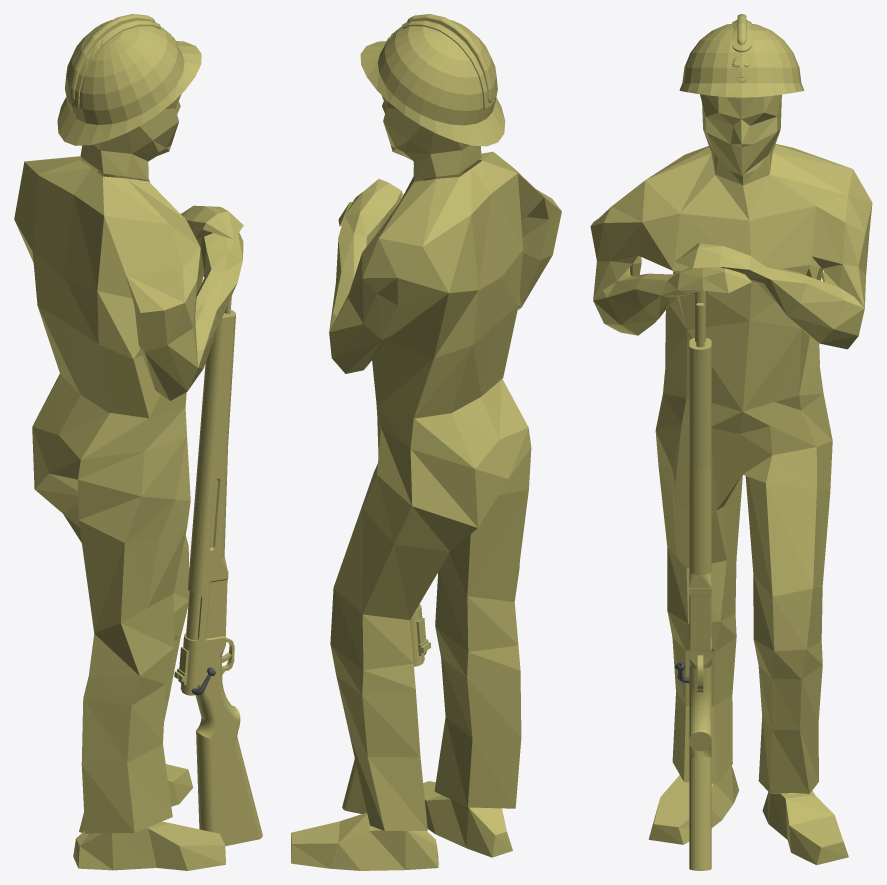
3 renders of one model, left to right at view 1: azimuth 30°, elevation 25°; view 2: azimuth 150°, elevation 25°; view 3: azimuth 270°, elevation 25°, orthographic. The views are drawn at different scales.
Visible parts, largest first — view 1: Mesh38 Composant_7_1 Composant_13_1 Model, Mesh33 Composant_4_1 Composant_13_1 Model, Mesh20 Composant_12_1 Composant_13_1 Model, Mesh41 Composant_8_1 Composant_13_1 Model, Mesh1 Composant_2_1 Composant_13_1 Model, Mesh35 Composant_6_1 Composant_13_1 Model, Mesh31 Composant_5_1 Composant_13_1 Model, Mesh9 Composant_10_1 Composant_13_1 Model, Mesh44 Composant_3_1 Composant_13_1 Model, Mesh7 Composant_9_1 Composant_13_1 Model, Mesh4 Composant_11_1 Composant_13_1 Model; view 2: Mesh31 Composant_5_1 Composant_13_1 Model, Mesh38 Composant_7_1 Composant_13_1 Model, Mesh41 Composant_8_1 Composant_13_1 Model, Mesh7 Composant_9_1 Composant_13_1 Model, Mesh1 Composant_2_1 Composant_13_1 Model, Mesh33 Composant_4_1 Composant_13_1 Model, Mesh4 Composant_11_1 Composant_13_1 Model, Mesh44 Composant_3_1 Composant_13_1 Model, Mesh9 Composant_10_1 Composant_13_1 Model, Mesh35 Composant_6_1 Composant_13_1 Model, Mesh20 Composant_12_1 Composant_13_1 Model; view 3: Mesh31 Composant_5_1 Composant_13_1 Model, Mesh38 Composant_7_1 Composant_13_1 Model, Mesh33 Composant_4_1 Composant_13_1 Model, Mesh7 Composant_9_1 Composant_13_1 Model, Mesh20 Composant_12_1 Composant_13_1 Model, Mesh35 Composant_6_1 Composant_13_1 Model, Mesh41 Composant_8_1 Composant_13_1 Model, Mesh1 Composant_2_1 Composant_13_1 Model, Mesh44 Composant_3_1 Composant_13_1 Model, Mesh4 Composant_11_1 Composant_13_1 Model, Mesh9 Composant_10_1 Composant_13_1 Model.
Part boxes in pixels (left/top/right/bottom): Mesh38 Composant_7_1 Composant_13_1 Model: left=32, top=374, right=190, bottom=633; Mesh33 Composant_4_1 Composant_13_1 Model: left=64, top=168, right=204, bottom=418; Mesh20 Composant_12_1 Composant_13_1 Model: left=174, top=296, right=262, bottom=846; Mesh41 Composant_8_1 Composant_13_1 Model: left=81, top=593, right=174, bottom=833; Mesh1 Composant_2_1 Composant_13_1 Model: left=57, top=14, right=201, bottom=145; Mesh35 Composant_6_1 Composant_13_1 Model: left=126, top=232, right=243, bottom=400; Mesh31 Composant_5_1 Composant_13_1 Model: left=14, top=156, right=243, bottom=394; Mesh9 Composant_10_1 Composant_13_1 Model: left=73, top=821, right=225, bottom=870; Mesh44 Composant_3_1 Composant_13_1 Model: left=80, top=94, right=181, bottom=180; Mesh7 Composant_9_1 Composant_13_1 Model: left=164, top=546, right=189, bottom=721; Mesh4 Composant_11_1 Composant_13_1 Model: left=79, top=764, right=193, bottom=832; Mesh31 Composant_5_1 Composant_13_1 Model: left=329, top=169, right=501, bottom=418; Mesh38 Composant_7_1 Composant_13_1 Model: left=333, top=379, right=531, bottom=619; Mesh41 Composant_8_1 Composant_13_1 Model: left=434, top=570, right=521, bottom=808; Mesh7 Composant_9_1 Composant_13_1 Model: left=330, top=588, right=427, bottom=830; Mesh1 Composant_2_1 Composant_13_1 Model: left=360, top=14, right=505, bottom=146; Mesh33 Composant_4_1 Composant_13_1 Model: left=414, top=151, right=544, bottom=396; Mesh4 Composant_11_1 Composant_13_1 Model: left=291, top=812, right=438, bottom=870; Mesh44 Composant_3_1 Composant_13_1 Model: left=381, top=95, right=481, bottom=180; Mesh9 Composant_10_1 Composant_13_1 Model: left=423, top=781, right=512, bottom=857; Mesh35 Composant_6_1 Composant_13_1 Model: left=338, top=172, right=561, bottom=309; Mesh20 Composant_12_1 Composant_13_1 Model: left=342, top=404, right=430, bottom=813; Mesh31 Composant_5_1 Composant_13_1 Model: left=675, top=144, right=872, bottom=411; Mesh38 Composant_7_1 Composant_13_1 Model: left=655, top=366, right=832, bottom=596; Mesh33 Composant_4_1 Composant_13_1 Model: left=611, top=146, right=751, bottom=411; Mesh7 Composant_9_1 Composant_13_1 Model: left=753, top=575, right=822, bottom=793; Mesh20 Composant_12_1 Composant_13_1 Model: left=689, top=290, right=711, bottom=870; Mesh35 Composant_6_1 Composant_13_1 Model: left=590, top=206, right=751, bottom=335; Mesh41 Composant_8_1 Composant_13_1 Model: left=667, top=547, right=736, bottom=783; Mesh1 Composant_2_1 Composant_13_1 Model: left=679, top=14, right=804, bottom=97; Mesh44 Composant_3_1 Composant_13_1 Model: left=700, top=94, right=781, bottom=185; Mesh4 Composant_11_1 Composant_13_1 Model: left=762, top=790, right=848, bottom=865; Mesh9 Composant_10_1 Composant_13_1 Model: left=648, top=765, right=739, bottom=844.
Bounding box in the file's own units: 0.4524 × 1.91 × 0.6109.
Materials: 2 (1 with a texture image).
